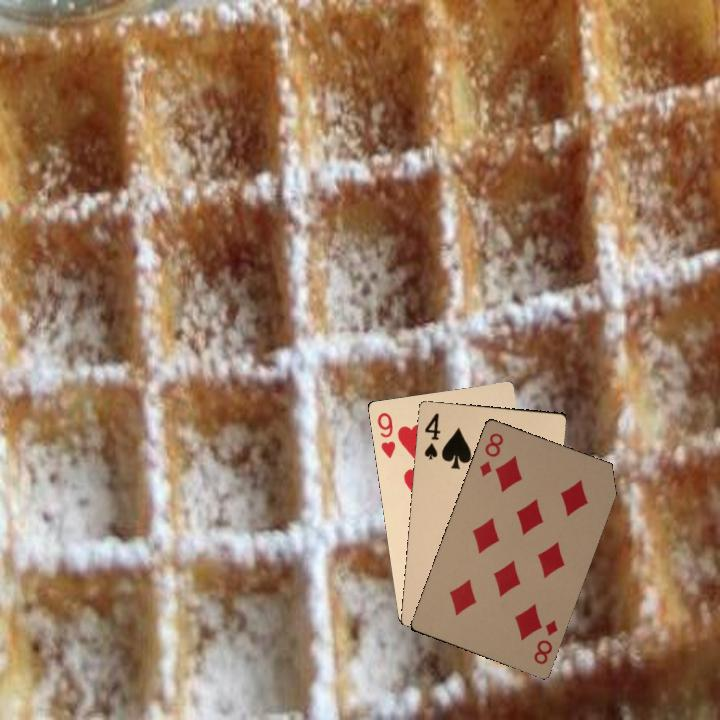4s: (420, 409, 443, 462)
8d: (475, 428, 506, 479), (529, 616, 560, 667)
9h: (373, 408, 398, 461)
